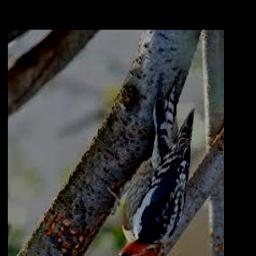Woodpecker: (101, 71, 194, 256)
